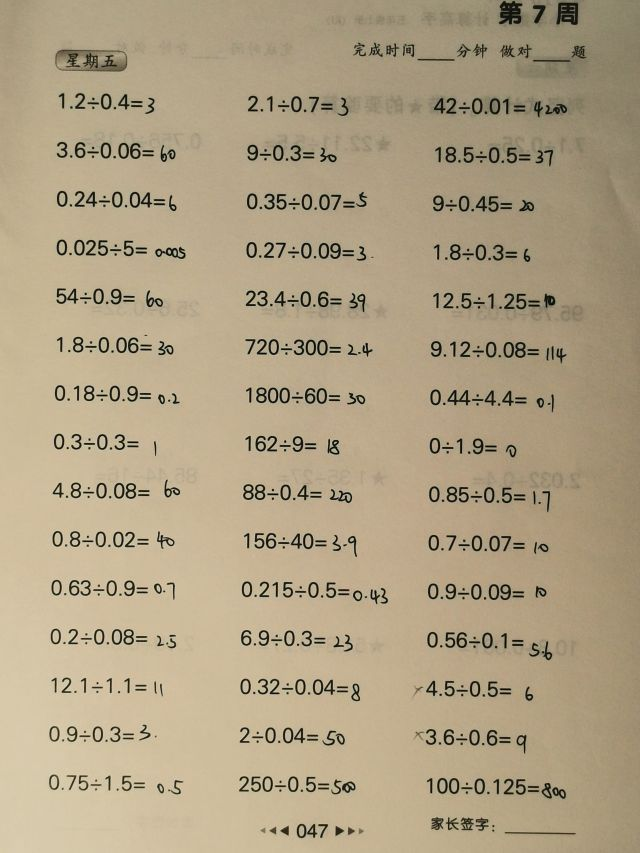equation: (237, 576, 393, 605), (422, 627, 557, 658), (423, 773, 570, 801), (426, 336, 570, 364), (423, 481, 555, 511), (236, 673, 365, 702), (429, 93, 571, 119), (52, 328, 177, 357), (425, 385, 558, 412), (239, 528, 362, 557), (44, 771, 186, 796), (48, 477, 183, 503), (46, 624, 179, 650), (241, 285, 369, 312), (422, 724, 530, 756), (51, 236, 189, 261), (52, 136, 179, 163), (411, 675, 537, 702), (241, 238, 377, 263), (52, 85, 158, 117), (423, 530, 553, 556), (422, 579, 550, 605), (46, 576, 178, 601), (50, 381, 182, 406), (431, 142, 557, 168), (236, 626, 356, 653), (51, 187, 180, 212), (235, 772, 359, 798), (241, 335, 375, 359), (243, 189, 371, 214), (242, 383, 369, 408), (47, 527, 178, 551), (430, 288, 560, 312), (49, 429, 161, 456), (235, 723, 349, 749), (238, 480, 356, 505), (45, 721, 160, 746), (51, 284, 166, 309), (47, 673, 166, 697), (243, 91, 352, 117), (428, 191, 538, 216), (240, 431, 342, 457), (430, 239, 533, 264), (425, 433, 519, 460), (242, 140, 340, 165)
